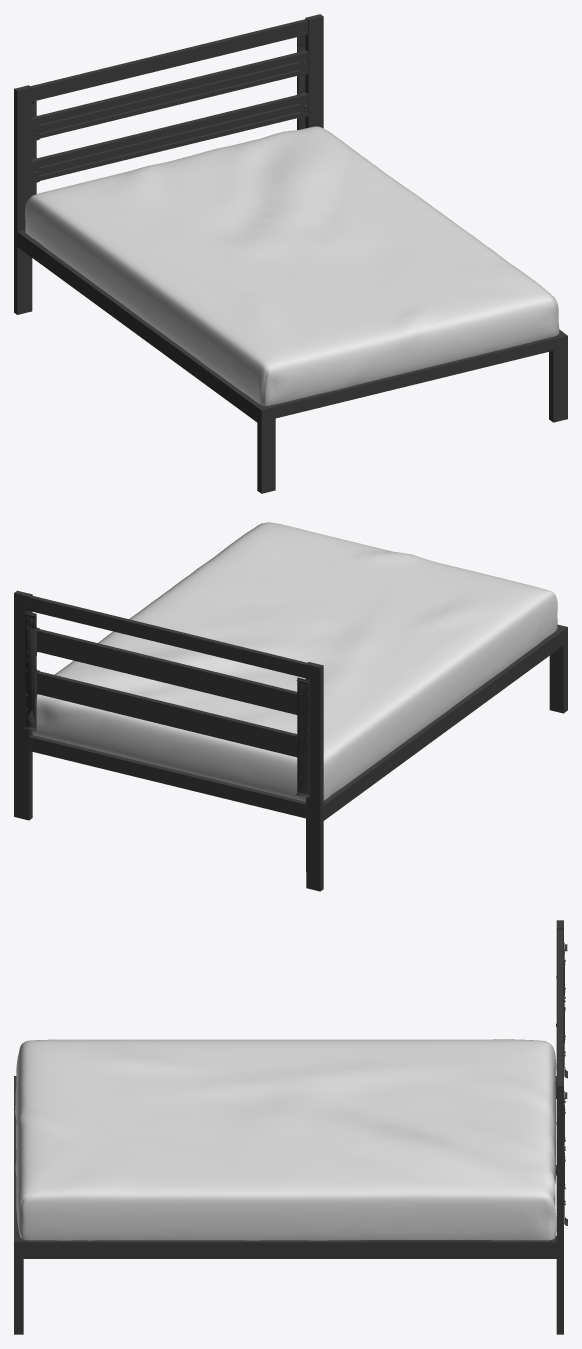
File: B086TGJFZK.glb
3 renders of one model, top to bottom at view 1: azimuth 30°, elevation 25°; view 2: azimuth 150°, elevation 25°; view 3: azimuth 270°, elevation 25°, orthographic. The views are drawn at different scales.
Visible parts, largest first — view 1: RootNode; view 2: RootNode; view 3: RootNode.
Boxes of the visible parts, x1,y1,x2,y2 form: RootNode: (14,14,567,493); RootNode: (14,522,567,891); RootNode: (14,920,567,1334).
Size of the model in its own units: 1.37 by 0.9569 by 1.93.
Materials: 1 (1 with a texture image).
